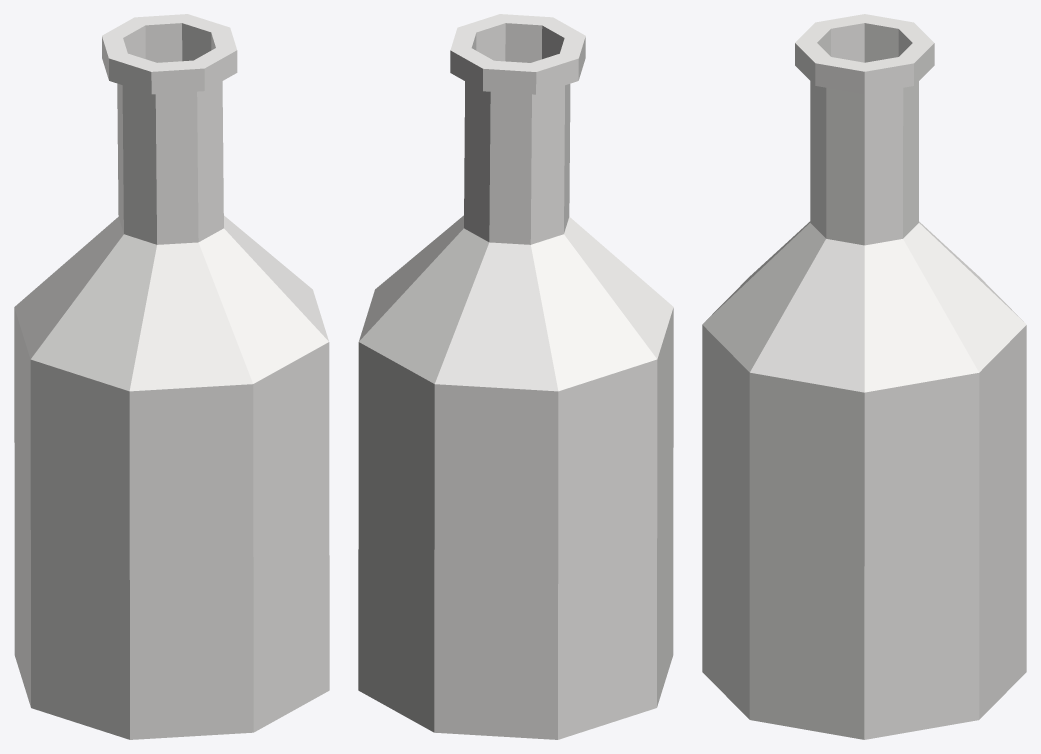
The model's file is Living_Room_bottle1.fbx.
3 views of the same model, side by side, from view 1: azimuth 30°, elevation 25°; view 2: azimuth 150°, elevation 25°; view 3: azimuth 270°, elevation 25° (orthographic).
Visible parts, largest first — view 1: Living_Room_bottle1; view 2: Living_Room_bottle1; view 3: Living_Room_bottle1.
Part boxes in pixels (box(x1,y1,x2,y2)): Living_Room_bottle1: box(14, 14, 329, 739); Living_Room_bottle1: box(358, 14, 673, 739); Living_Room_bottle1: box(702, 14, 1026, 739).
Bounding box in the file's own units: 12.6 × 26.9 × 12.58.
